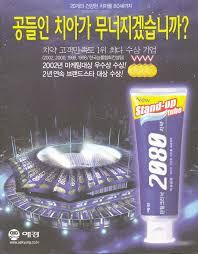toothpaste: (130, 85, 189, 247)
